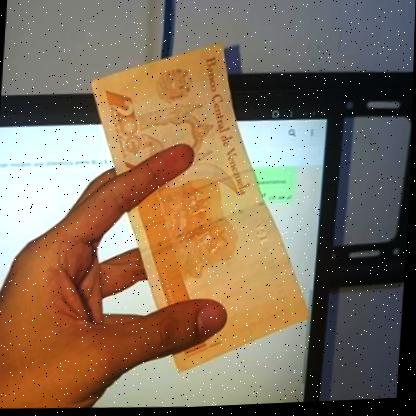twenty-back-vef: (72, 37, 331, 388)
